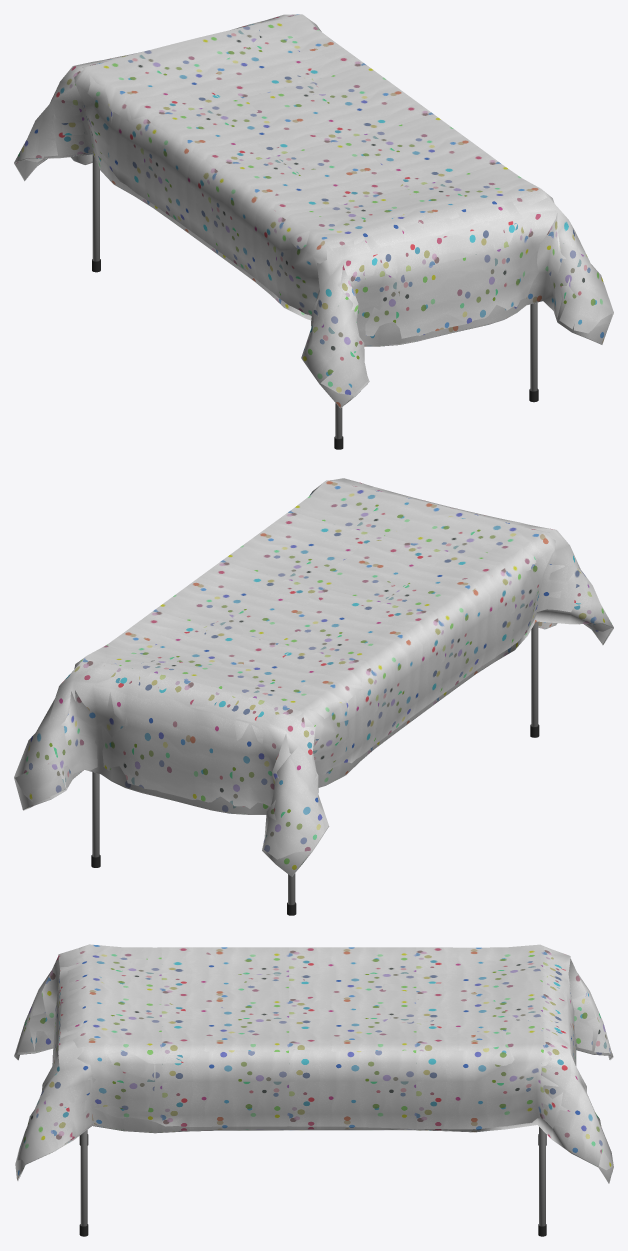
File: DiningTable.glb
The picture shows the model from 3 angles, top to bottom: view 1: azimuth 30°, elevation 25°; view 2: azimuth 150°, elevation 25°; view 3: azimuth 270°, elevation 25°; orthographic projection. The views are drawn at different scales.
Parts seen in each view (by area): view 1: Cube.001, Cylinder; view 2: Cube.001, Cylinder; view 3: Cube.001, Cylinder.
Part boxes in pixels (left/top/right/bottom): Cube.001: left=14, top=14, right=613, bottom=408; Cylinder: left=92, top=155, right=537, bottom=438; Cube.001: left=14, top=478, right=613, bottom=876; Cylinder: left=92, top=621, right=538, bottom=904; Cube.001: left=14, top=944, right=613, bottom=1183; Cylinder: left=80, top=1127, right=545, bottom=1226.
Bounding box in the file's own units: 3.57 × 2.36 × 6.47.
Materials: 3 (1 with a texture image).
